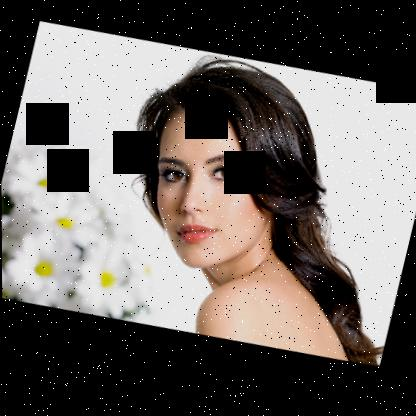Female: (133, 97, 289, 288)
